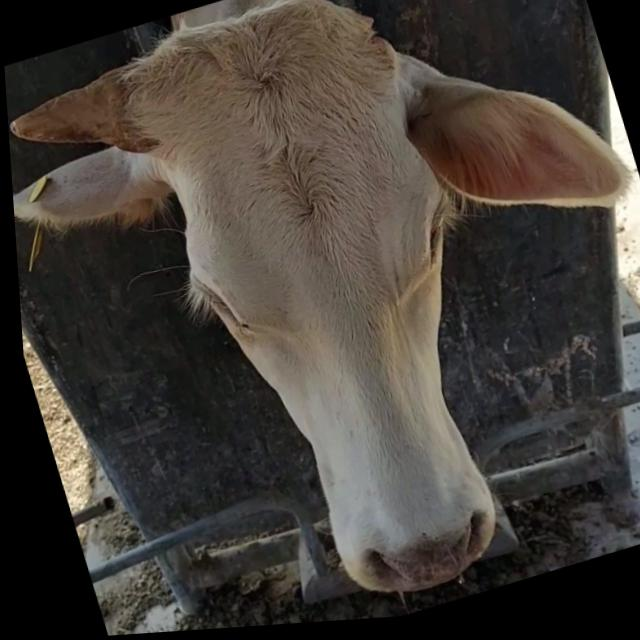cowFace: (124, 0, 539, 634)
